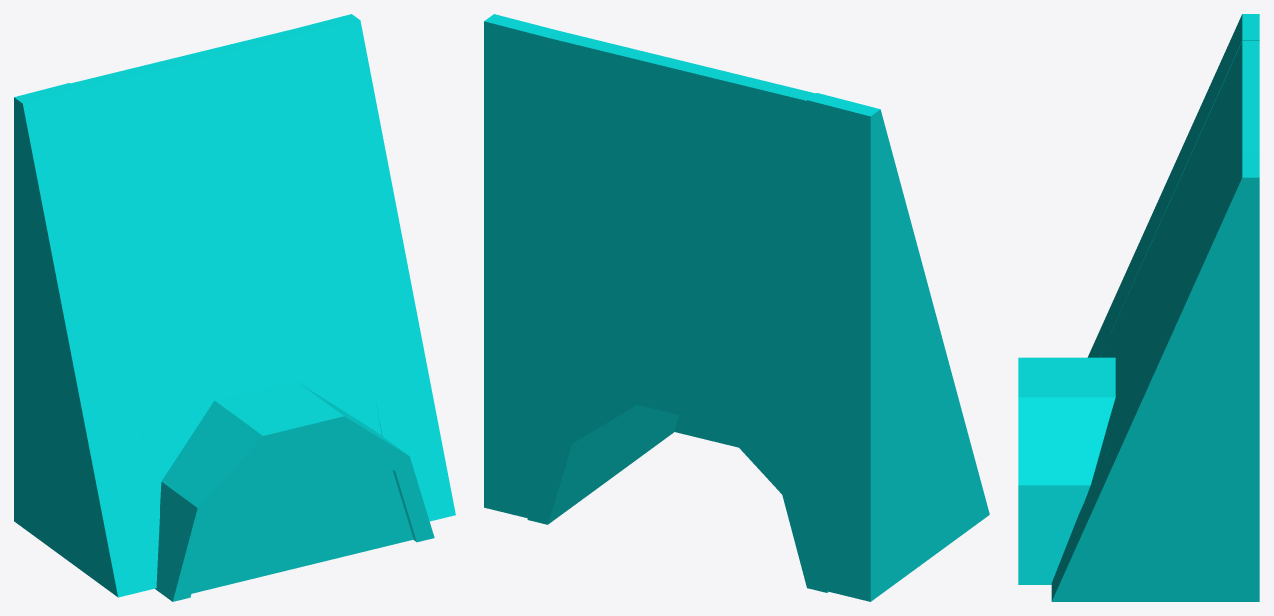
Rendered from SM_Bld_Wall_Slope_01_Alt_01_Collision.fbx.
3 views of the same model, side by side, from view 1: azimuth 30°, elevation 25°; view 2: azimuth 150°, elevation 25°; view 3: azimuth 270°, elevation 25° (orthographic). The views are drawn at different scales.
Parts seen in each view (by area): view 1: SM_Bld_Wall_Slope_01_Alt_01_Collision; view 2: SM_Bld_Wall_Slope_01_Alt_01_Collision; view 3: SM_Bld_Wall_Slope_01_Alt_01_Collision.
Part boxes in pixels (x1=…): SM_Bld_Wall_Slope_01_Alt_01_Collision: x1=14, y1=14, x2=455, y2=601; SM_Bld_Wall_Slope_01_Alt_01_Collision: x1=484, y1=14, x2=989, y2=601; SM_Bld_Wall_Slope_01_Alt_01_Collision: x1=1018, y1=14, x2=1259, y2=601.
Size of the model in its own units: 500 by 603 by 310.
